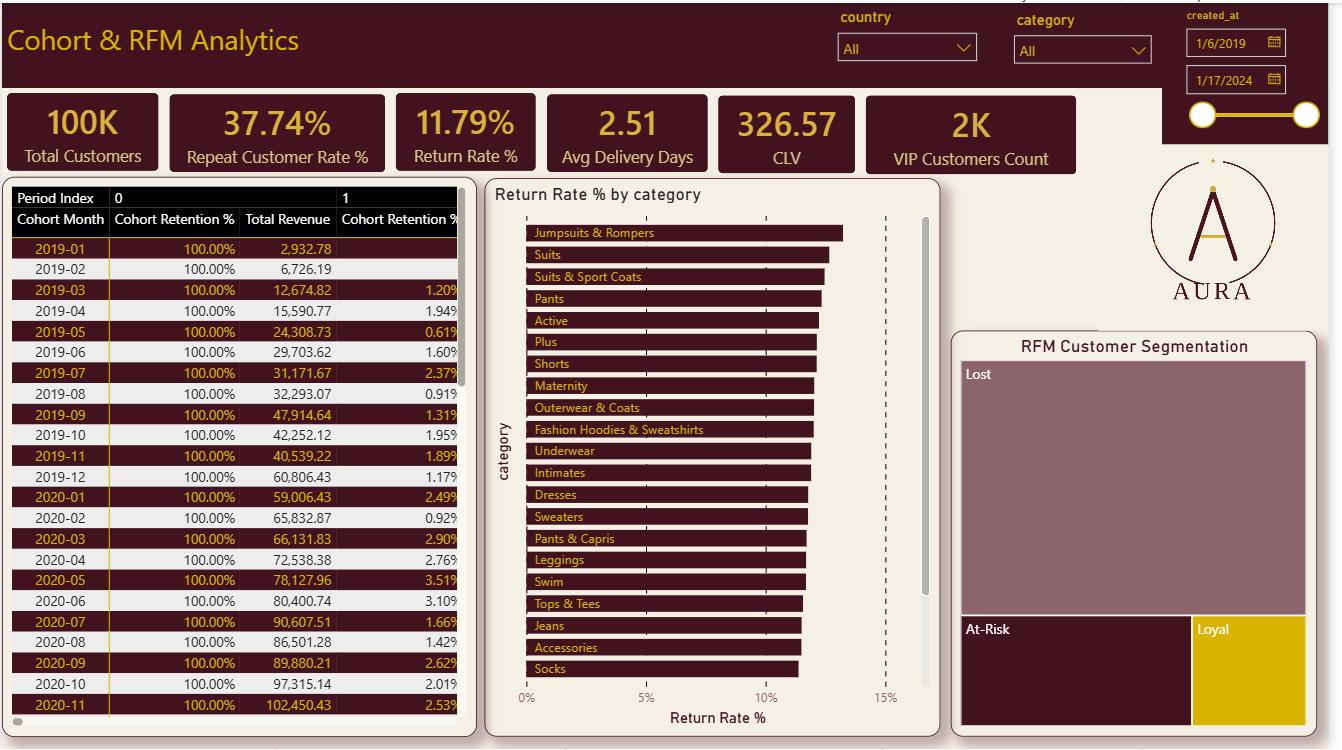

What the dashboard file says about the page in this screenshot:
{"tool":"powerbi","page":{"name":"Cohort & RFM Analytics","canvas":[1280,720],"ordinal":4},"visuals":[{"type":"shape","box":[1119.6,82,160.5,54.3],"z":0},{"type":"pivotTable","fields":{"Values":["Key_Measures.Cohort Retention %","Key_Measures.Total Revenue"],"Rows":["Dim_Users.Cohort Month"],"Columns":["Fact_Orders.Period Index"]},"box":[0,167.7,458.4,540.5],"z":1000},{"type":"treemap","title":"RFM Customer Segmentation","fields":{"Group":["Dim_Users.RFM Segment"],"Values":["Key_Measures.Total Customers"]},"box":[915.7,316.1,353.5,392.1],"z":2000},{"type":"clusteredBarChart","fields":{"Category":["Dim_Products.category"],"Y":["Key_Measures.Return Rate %"]},"box":[465.7,168.9,440.4,539.3],"z":3000},{"type":"shape","box":[0,0,1280,82],"z":4000},{"type":"cardVisual","fields":{"Data":["Key_Measures.Total Customers"]},"box":[0,82,156.8,85.7],"z":5000},{"type":"cardVisual","fields":{"Data":["Key_Measures.Repeat Customer Rate %"]},"box":[156.8,83.2,218.4,85.7],"z":6000},{"type":"cardVisual","fields":{"Data":["Key_Measures.Return Rate %"]},"box":[375.2,82,146,85.7],"z":7000},{"type":"cardVisual","fields":{"Data":["Key_Measures.Avg Delivery Days"]},"box":[521.2,83.2,165.3,85.7],"z":8000},{"type":"cardVisual","fields":{"Data":["Key_Measures.CLV"]},"box":[686.5,84.5,142.4,85.7],"z":9000},{"type":"cardVisual","fields":{"Data":["Key_Measures.VIP Customers Count"]},"box":[828.8,84.5,213.5,86.9],"z":10000},{"type":"image","box":[1058,138.7,222,177.3],"z":11000},{"type":"textbox","box":[0,12.1,400.5,48.3],"z":12000},{"type":"slicer","fields":{"Values":["Fact_Orders.created_at"]},"box":[1130.4,0,149.6,125.5],"z":13000},{"type":"slicer","fields":{"Values":["Dim_Products.category"]},"box":[966.4,2.4,153.2,68.8],"z":14000},{"type":"slicer","fields":{"Values":["Dim_Users.country"]},"box":[796.3,0,154.4,70],"z":15000}]}

Visuals, with their boxes in screenshot pixels (x1, y1, x2, y2), scaled from the page's 1280x720 canvas onto the 1342x750 screenshot:
shape: (1174,85,1341,142)
pivotTable - Key_Measures.Cohort Retention % x Key_Measures.Total Revenue: (0,175,481,738)
"RFM Customer Segmentation" treemap: (960,329,1331,738)
clusteredBarChart - Dim_Products.category x Key_Measures.Return Rate %: (488,176,950,738)
shape: (0,0,1341,85)
cardVisual - Key_Measures.Total Customers: (0,85,164,175)
cardVisual - Key_Measures.Repeat Customer Rate %: (164,87,393,176)
cardVisual - Key_Measures.Return Rate %: (393,85,546,175)
cardVisual - Key_Measures.Avg Delivery Days: (546,87,720,176)
cardVisual - Key_Measures.CLV: (720,88,869,177)
cardVisual - Key_Measures.VIP Customers Count: (869,88,1093,179)
image: (1109,144,1341,329)
textbox: (0,13,420,63)
slicer - Fact_Orders.created_at: (1185,0,1341,131)
slicer - Dim_Products.category: (1013,2,1174,74)
slicer - Dim_Users.country: (835,0,997,73)
